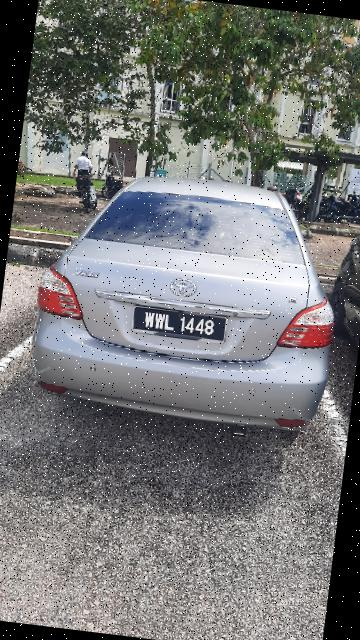License_Plate: (129, 298, 234, 348)
car: (5, 144, 360, 447)
